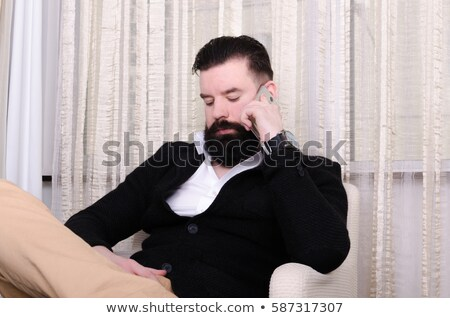phone: (244, 76, 282, 143)
talk: (199, 74, 286, 152)
